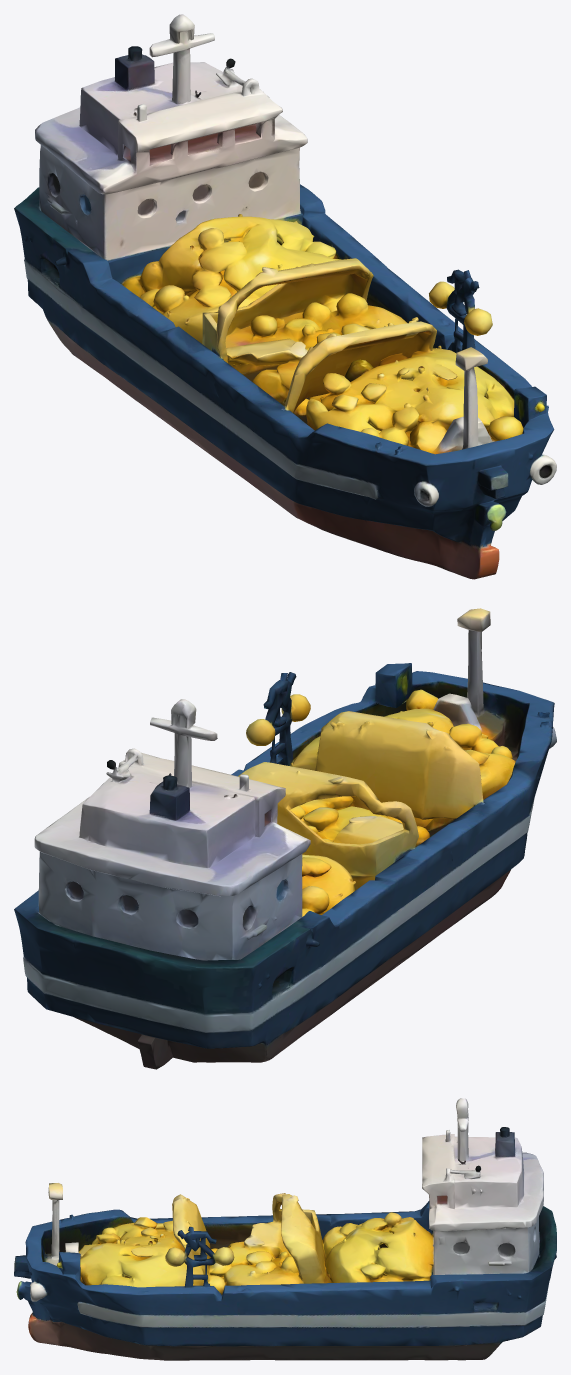
File: navio.glb
3 views of the same model, one above another, from view 1: azimuth 30°, elevation 25°; view 2: azimuth 150°, elevation 25°; view 3: azimuth 270°, elevation 25° (orthographic). The views are drawn at different scales.
Visible parts, largest first — view 1: tripo_node_63c541af-3ce8-4936-9f78-b0e3fefcf388; view 2: tripo_node_63c541af-3ce8-4936-9f78-b0e3fefcf388; view 3: tripo_node_63c541af-3ce8-4936-9f78-b0e3fefcf388.
Part boxes in pixels (bbox=[...]): tripo_node_63c541af-3ce8-4936-9f78-b0e3fefcf388: bbox=[14, 14, 556, 579]; tripo_node_63c541af-3ce8-4936-9f78-b0e3fefcf388: bbox=[14, 608, 556, 1069]; tripo_node_63c541af-3ce8-4936-9f78-b0e3fefcf388: bbox=[14, 1098, 556, 1360].
Size of the model in its own units: 0.3859 by 0.4884 by 1.
1 material, 1 textured.
